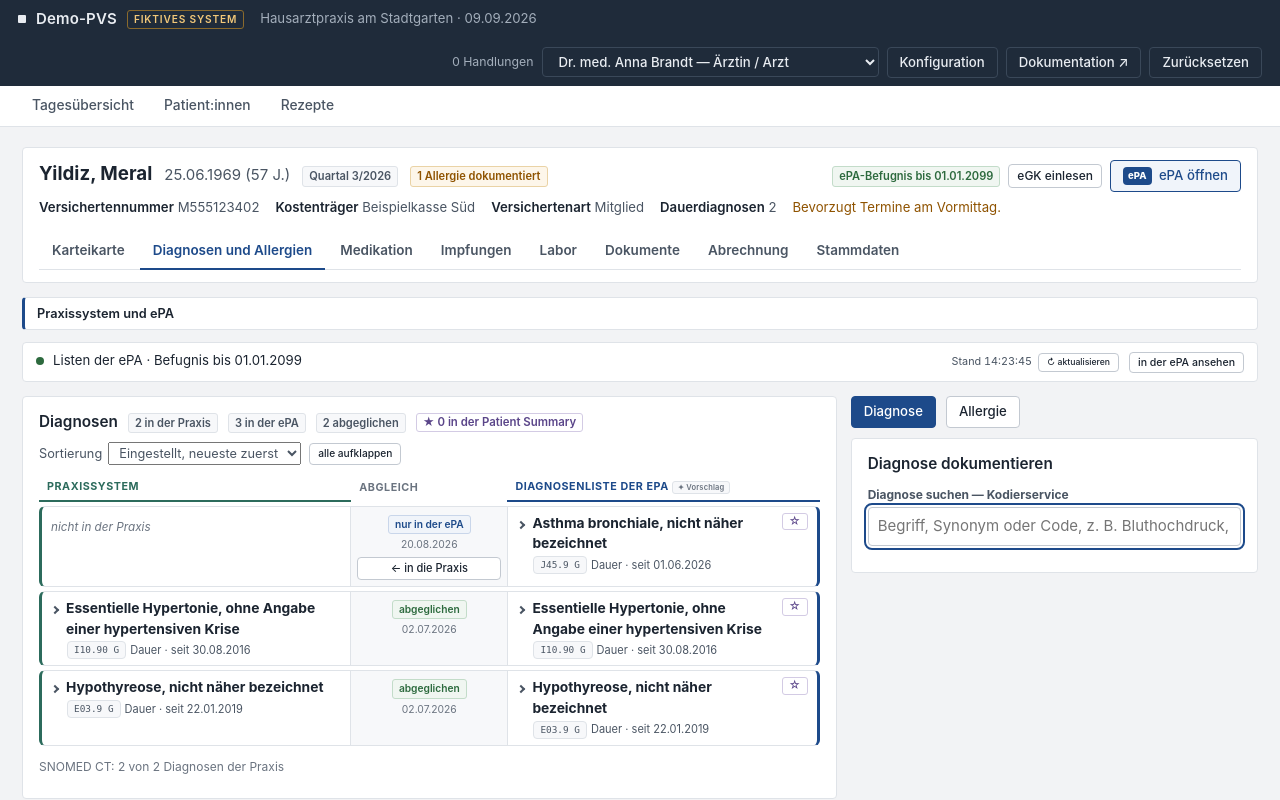
Test case: Splitscreen Diagnosen und Allergien › gleicht gegen die Diagnosenliste ab und übernimmt einen Eintrag des Klinikums
The width and height of the screenshot is (1280, 800).
Expected: the text "Listen der ePA · Befugnis bis 01.01.2099" is shown, x1=53 y1=351 x2=302 y2=371
Expected: the text "abgeglichen" is shown 2 times, x1=392 y1=600 x2=467 y2=619; x1=392 y1=679 x2=467 y2=699
Click the button "alle aufklappen": (355, 454) x1=309 y1=443 x2=401 y2=464
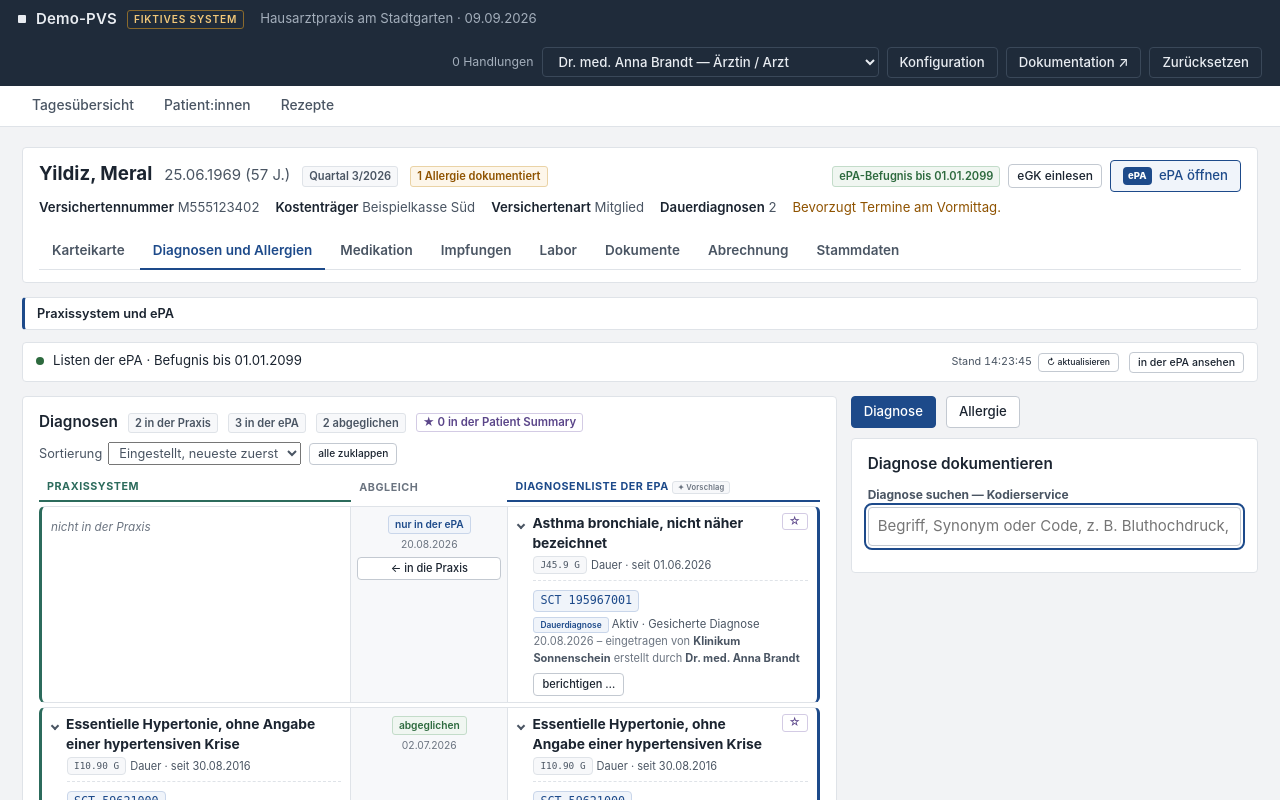
Click the button "← in die Praxis": (429, 569) x1=357 y1=557 x2=501 y2=580
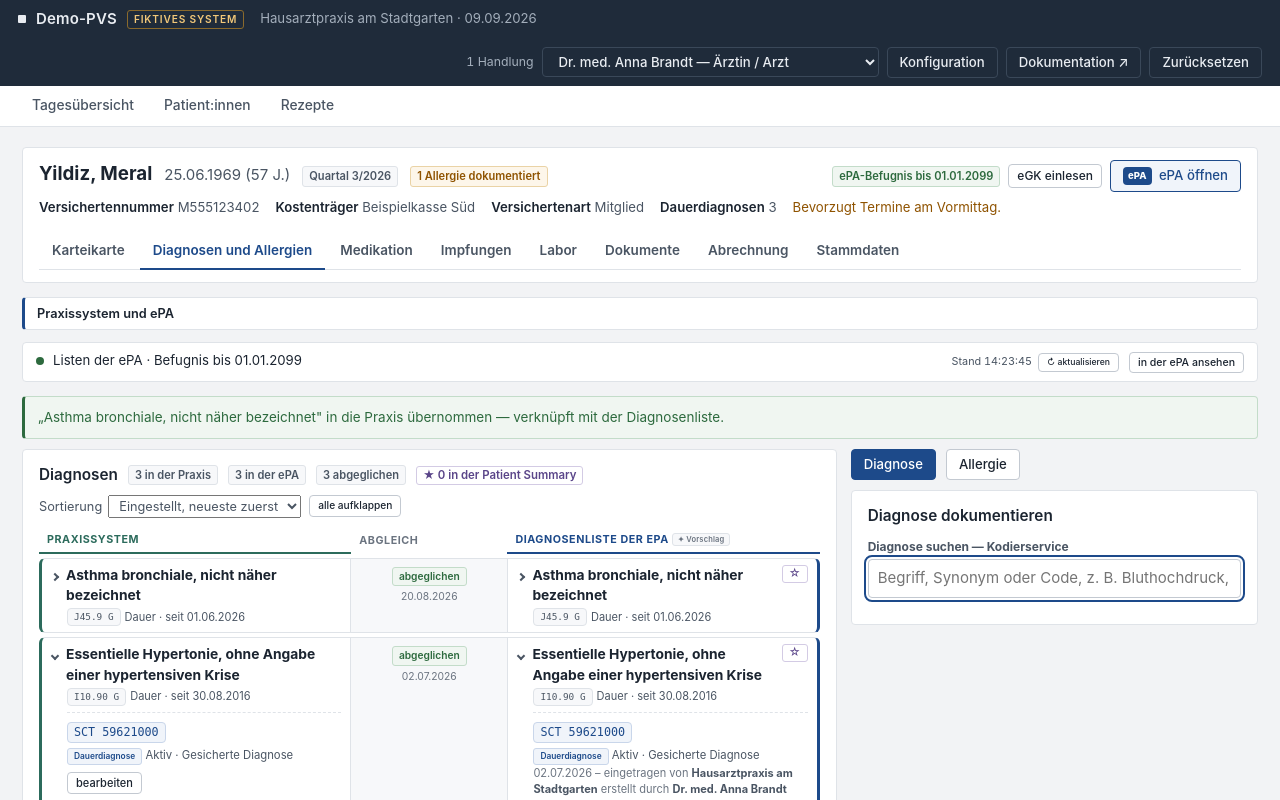
Result: the text "abgeglichen" is shown 3 times
